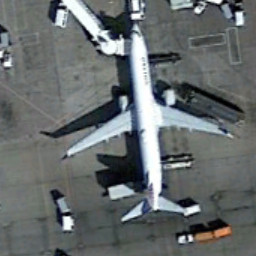Airplane: (52, 18, 244, 227)
